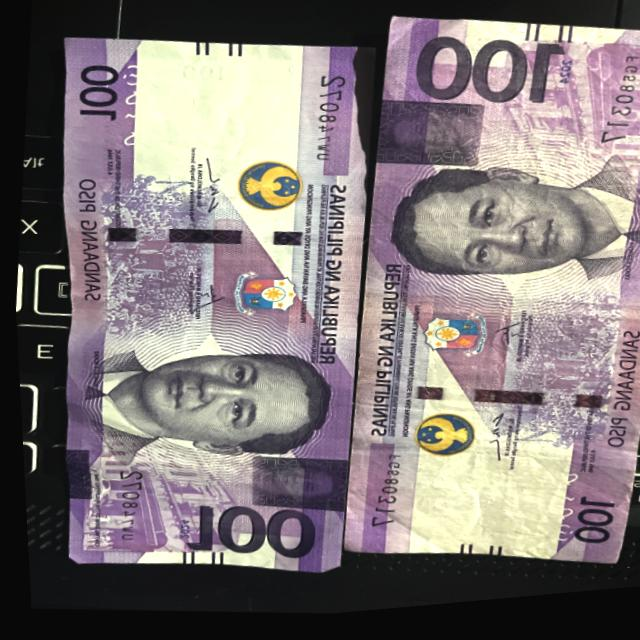concealed_value: (369, 102, 490, 184), (240, 454, 348, 524)
security_thread: (68, 204, 393, 279), (351, 370, 640, 443)
serial_number: (297, 57, 359, 181), (587, 54, 640, 166), (353, 447, 410, 545), (101, 459, 147, 552)
value: (407, 35, 568, 128), (165, 492, 315, 574)
value_watermark: (172, 61, 235, 95)
watermark: (123, 55, 309, 177), (394, 444, 570, 561)
